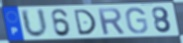6: (50, 8, 72, 38)
8: (151, 6, 172, 34)
D: (73, 8, 98, 37)
G: (124, 6, 150, 35)
R: (96, 7, 127, 37)
U: (19, 8, 50, 39)
